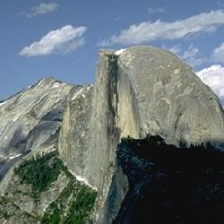neutral: (2, 8, 223, 224)
